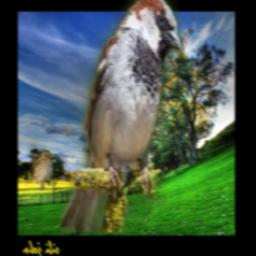Sparrow: (61, 0, 183, 232), (29, 150, 54, 191)
